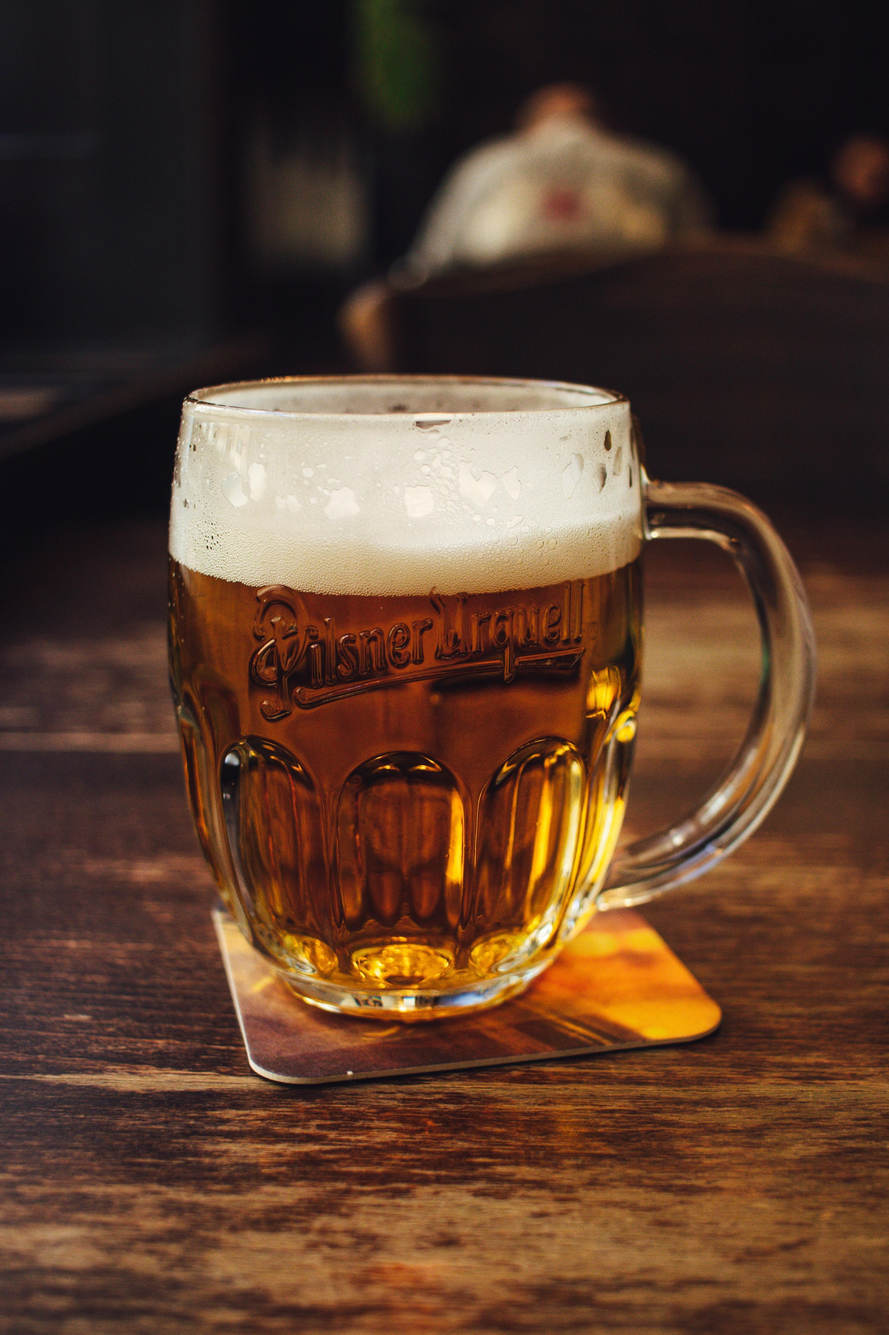glass-mug: (159, 365, 824, 1027)
